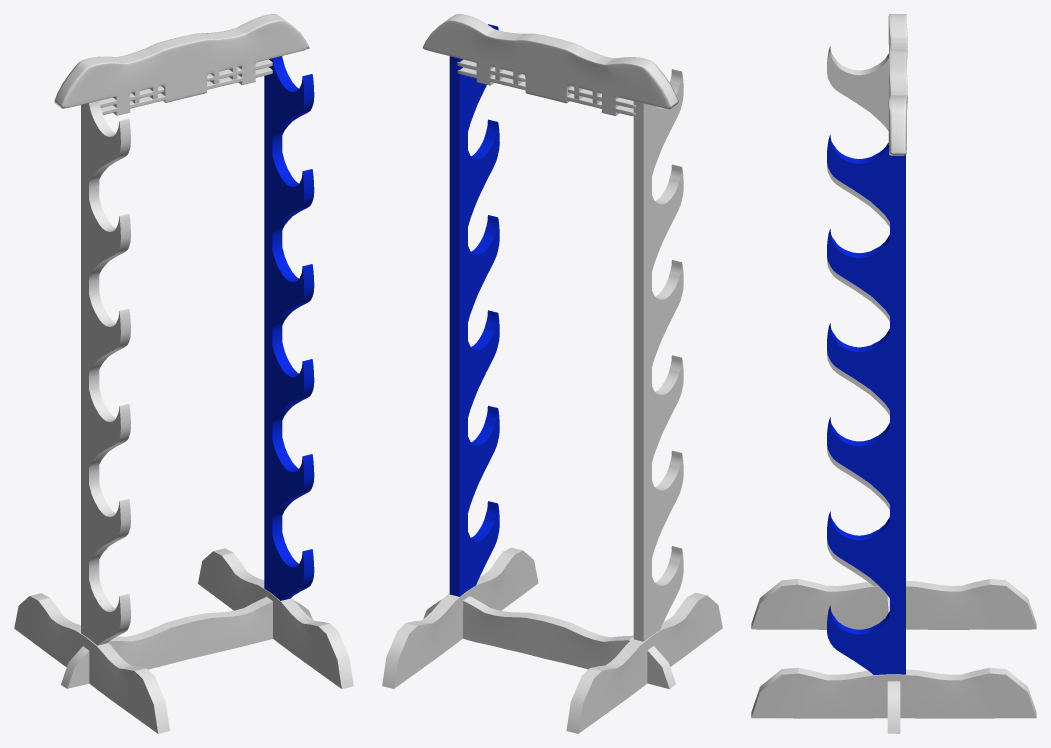
Rendered from Stand swords .fbx.
3 renders of one model, left to right at view 1: azimuth 30°, elevation 25°; view 2: azimuth 150°, elevation 25°; view 3: azimuth 270°, elevation 25°, orthographic.
Visible parts, largest first — view 1: right side, left side, top side, down center side, down left side, sown right side; view 2: left side, right side, top side, down center side, down left side, sown right side; view 3: right side, sown right side, down left side, left side, top side, down center side.
Part boxes in pixels (x1,y1,x2,y2): right side: [264, 56, 314, 600]; left side: [81, 100, 130, 645]; top side: [54, 14, 309, 115]; down center side: [61, 596, 312, 688]; down left side: [14, 593, 169, 733]; sown right side: [198, 548, 353, 688]; left side: [633, 69, 683, 641]; right side: [449, 24, 499, 596]; top side: [422, 14, 678, 116]; down center side: [423, 596, 675, 689]; down left side: [566, 592, 722, 733]; sown right side: [382, 547, 538, 688]; right side: [827, 135, 905, 674]; sown right side: [751, 667, 1036, 718]; down left side: [751, 579, 1036, 629]; left side: [827, 46, 889, 586]; top side: [888, 14, 907, 155]; down center side: [887, 595, 900, 733].
Size of the model in its own units: 277 by 644 by 272.
